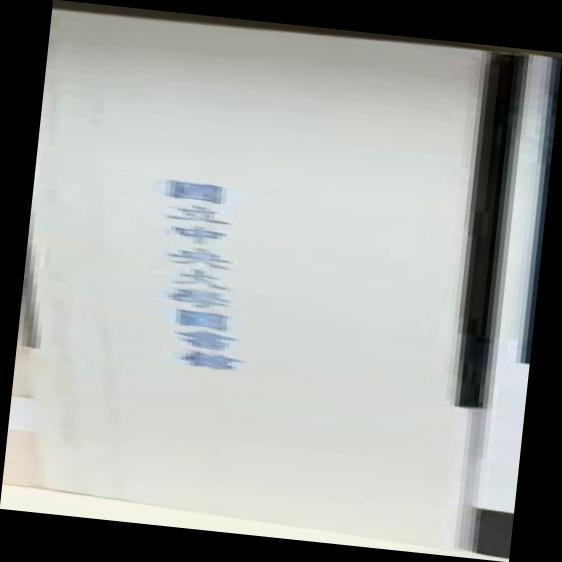backward: (1, 1, 558, 562)
